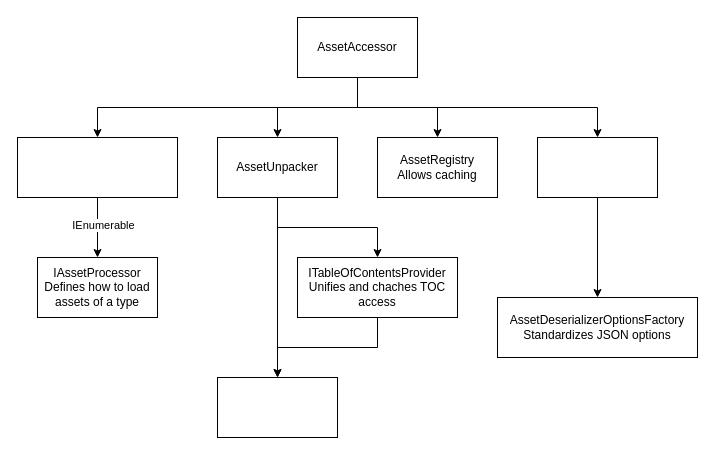
Some shapes in this 715 by 455 pixel diagram are drawn without their labels. The centre of each missing label's shape, as x and y in pixels:
"AssetProcessorCollection Gathers processors in one place" goes at (97,167).
"AssetSerializer Creates, caches and uses JSON options" goes at (597,167).
"IAssetStreamProvider Platform specific asset retrieval" goes at (277,407).
